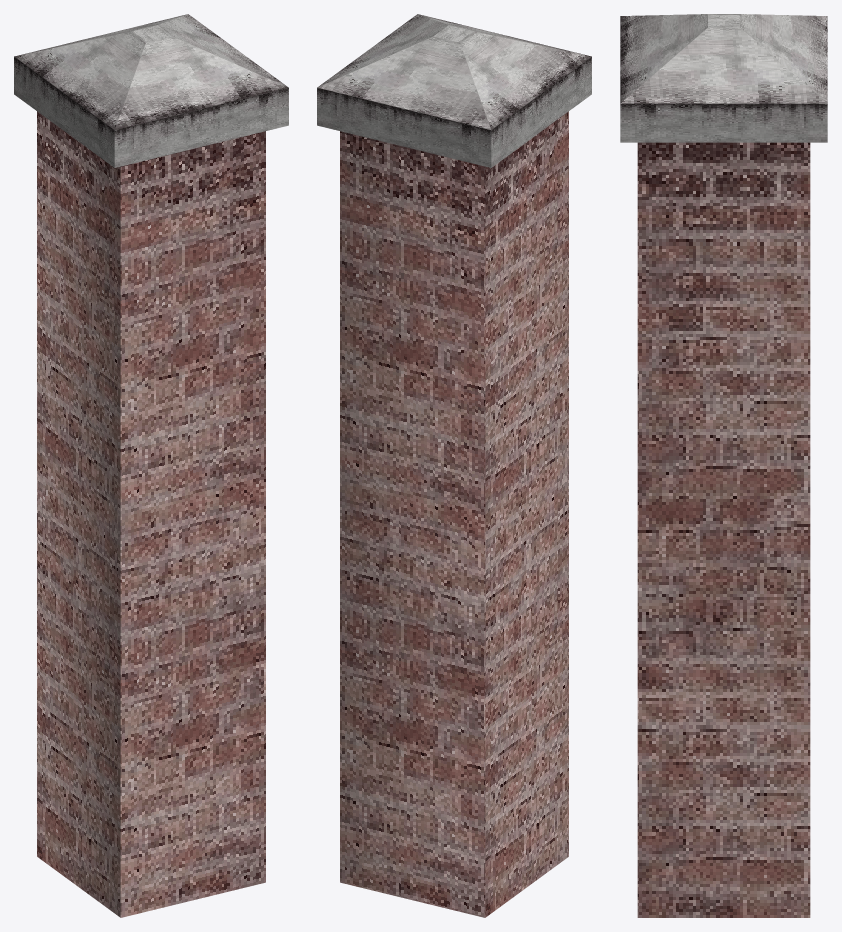
The model's file is brick_wall_pole.glb.
3 renders of one model, left to right at view 1: azimuth 30°, elevation 25°; view 2: azimuth 150°, elevation 25°; view 3: azimuth 270°, elevation 25°, orthographic. The views are drawn at different scales.
Visible parts, largest first — view 1: brick_wall_pole; view 2: brick_wall_pole; view 3: brick_wall_pole.
Boxes of the visible parts, <box> form: brick_wall_pole: <box>14,14,288,917</box>; brick_wall_pole: <box>317,14,591,917</box>; brick_wall_pole: <box>620,14,827,917</box>.
Bounding box in the file's own units: 0.6 × 2.75 × 0.6.
2 materials, 2 textured.
